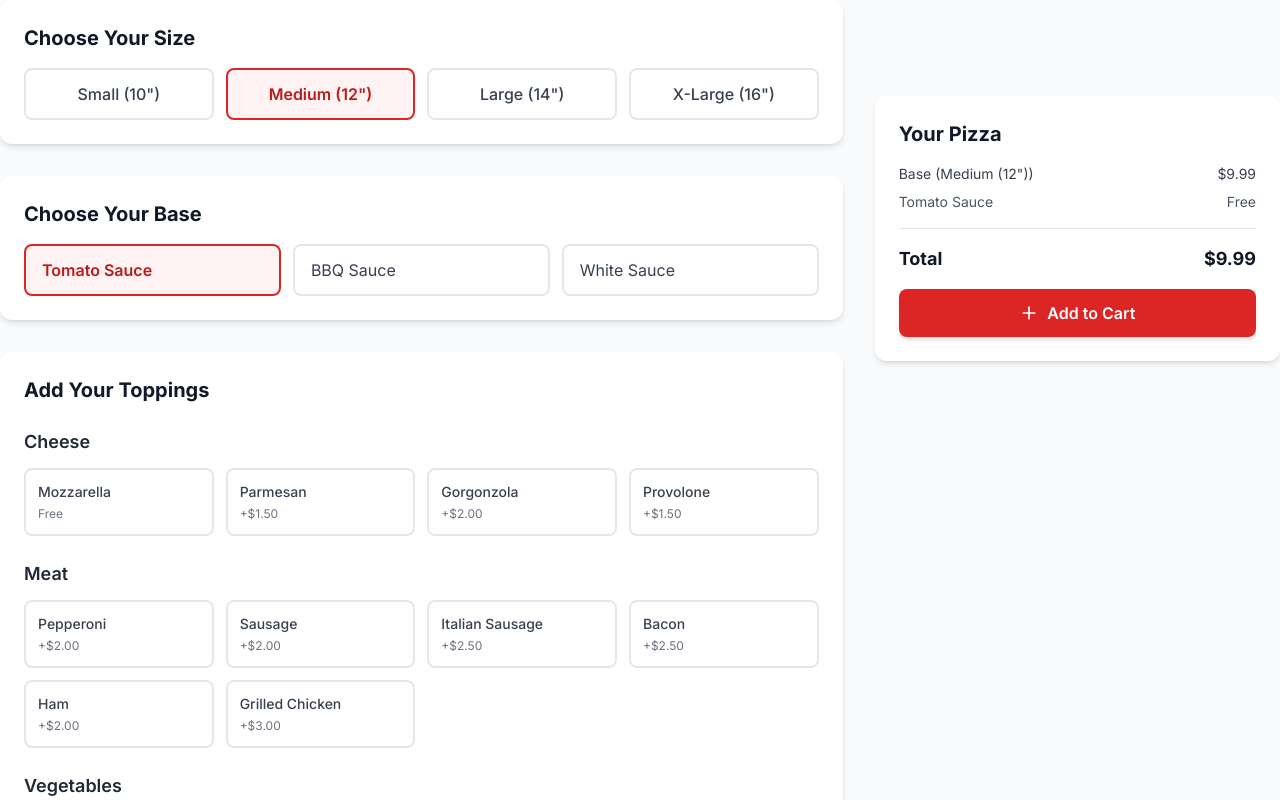
Test: PizzaBuilder › should update price preview when changing size
Expected: the text "$9.99" in the row of "Base (" is shown, [1217,165,1256,182]
Click the button "Small (10\")". click: point(119, 94)
box: [24,68,214,120]
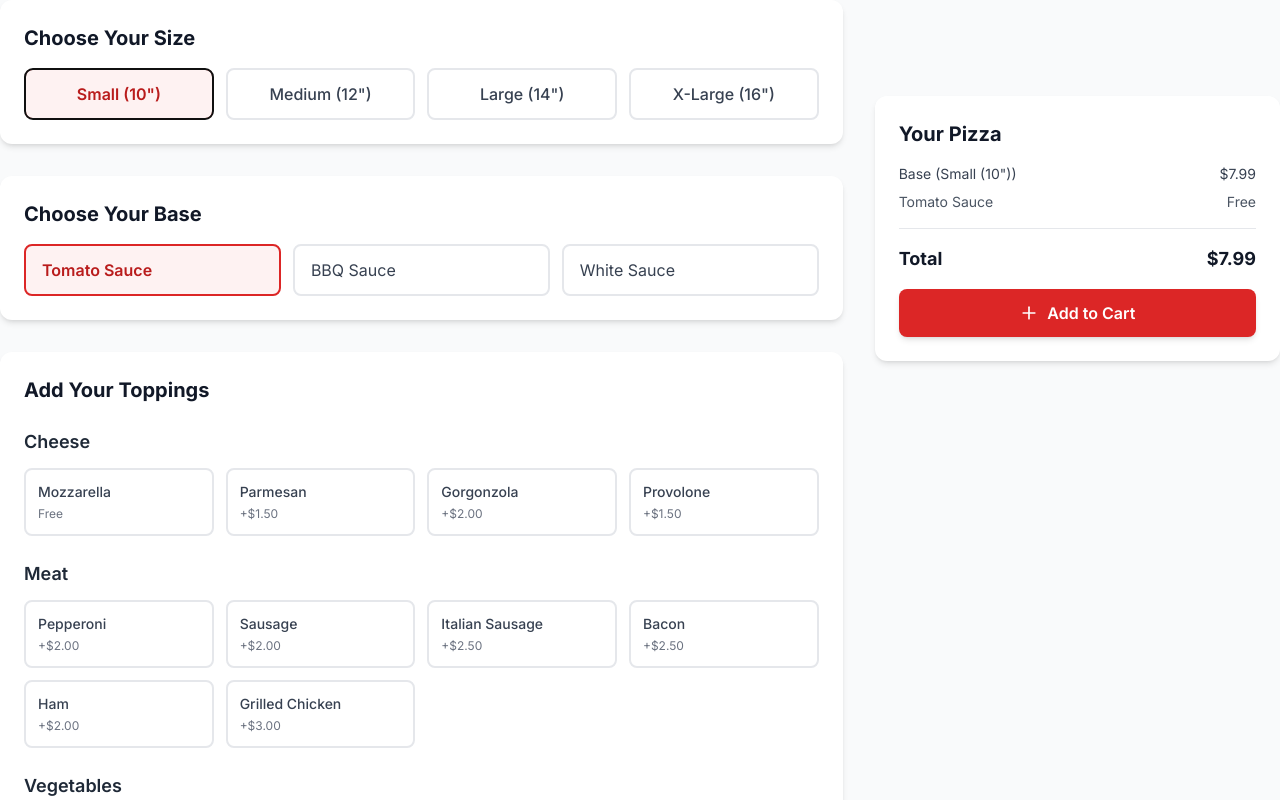
Now the text "$7.99" in the row of "Base (" is shown, box [1220,165,1256,182]
